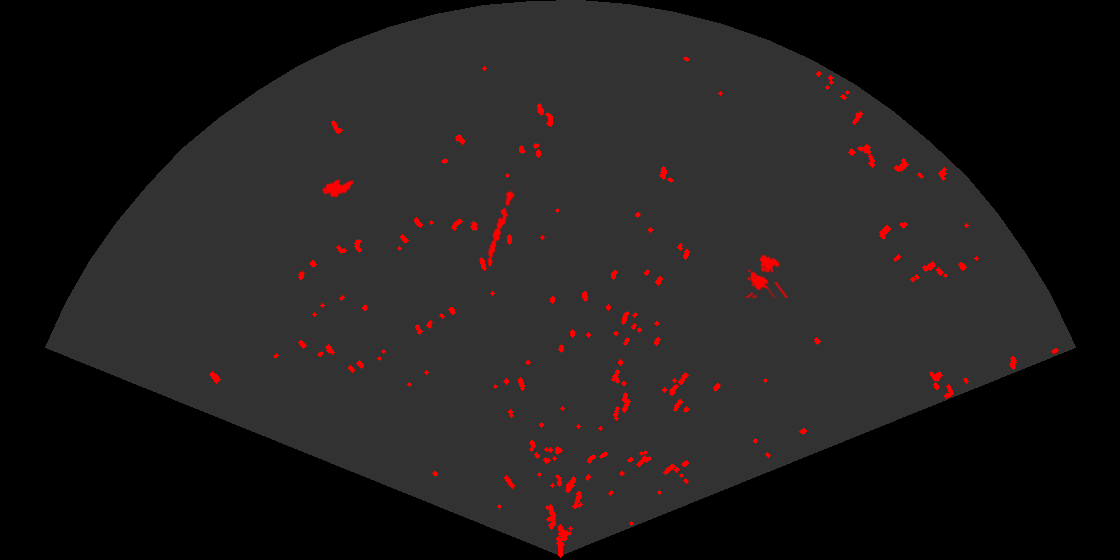AUV: (320, 178, 356, 199)
cage: (743, 253, 790, 298)
chain: (486, 185, 516, 269)
